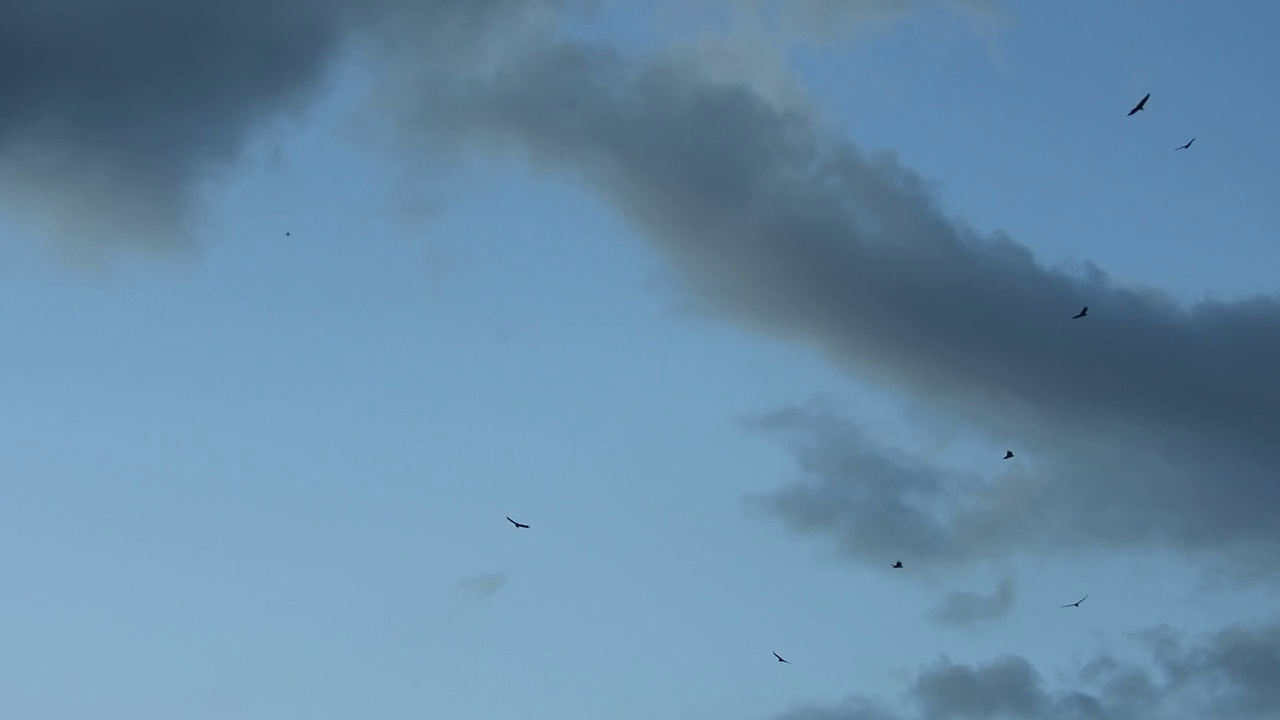bird: (1127, 92, 1151, 117), (1060, 595, 1088, 608), (1175, 136, 1196, 151), (508, 517, 530, 528), (772, 650, 789, 663), (1070, 307, 1087, 320), (889, 560, 904, 568), (1002, 451, 1014, 460)
